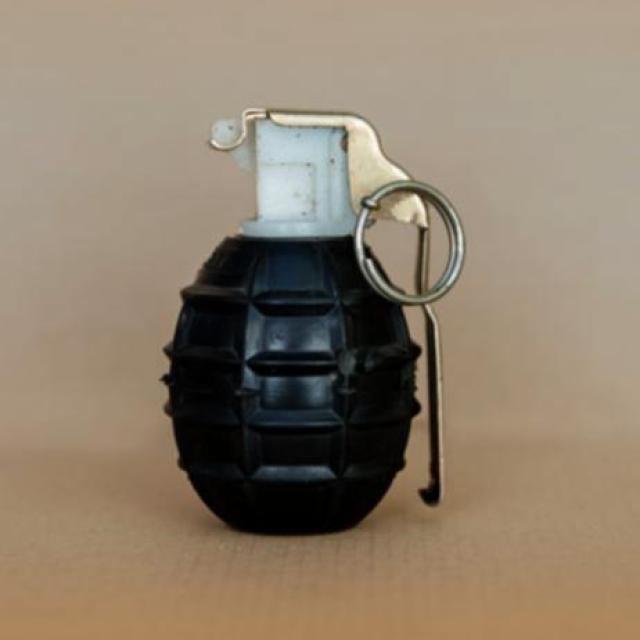grenade: (159, 109, 465, 536)
